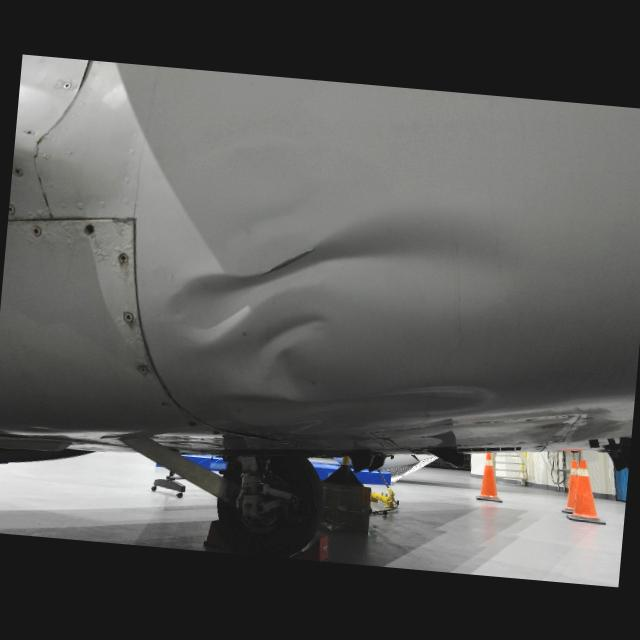Missing Fastener: (74, 221, 105, 244)
dent: (145, 174, 549, 378), (193, 334, 496, 463), (231, 300, 362, 400)
